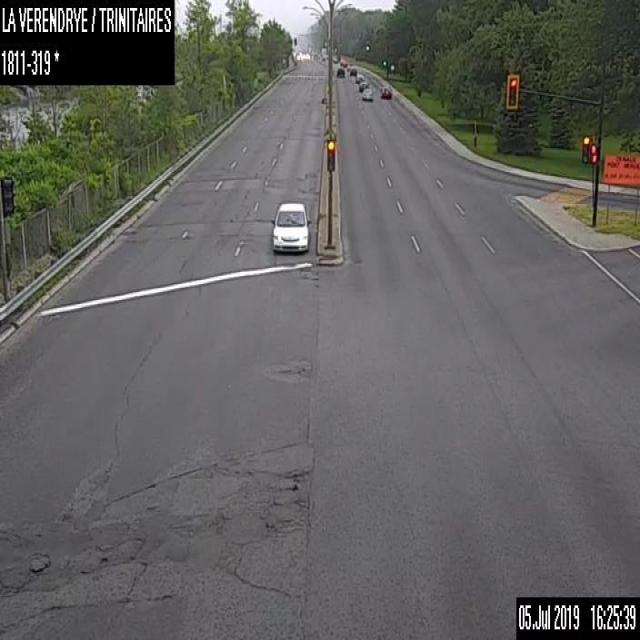vehicle: (269, 198, 310, 250), (380, 85, 392, 97), (362, 88, 372, 100), (358, 80, 367, 91), (336, 66, 344, 78), (355, 73, 363, 82), (349, 67, 356, 75), (346, 62, 352, 71)
